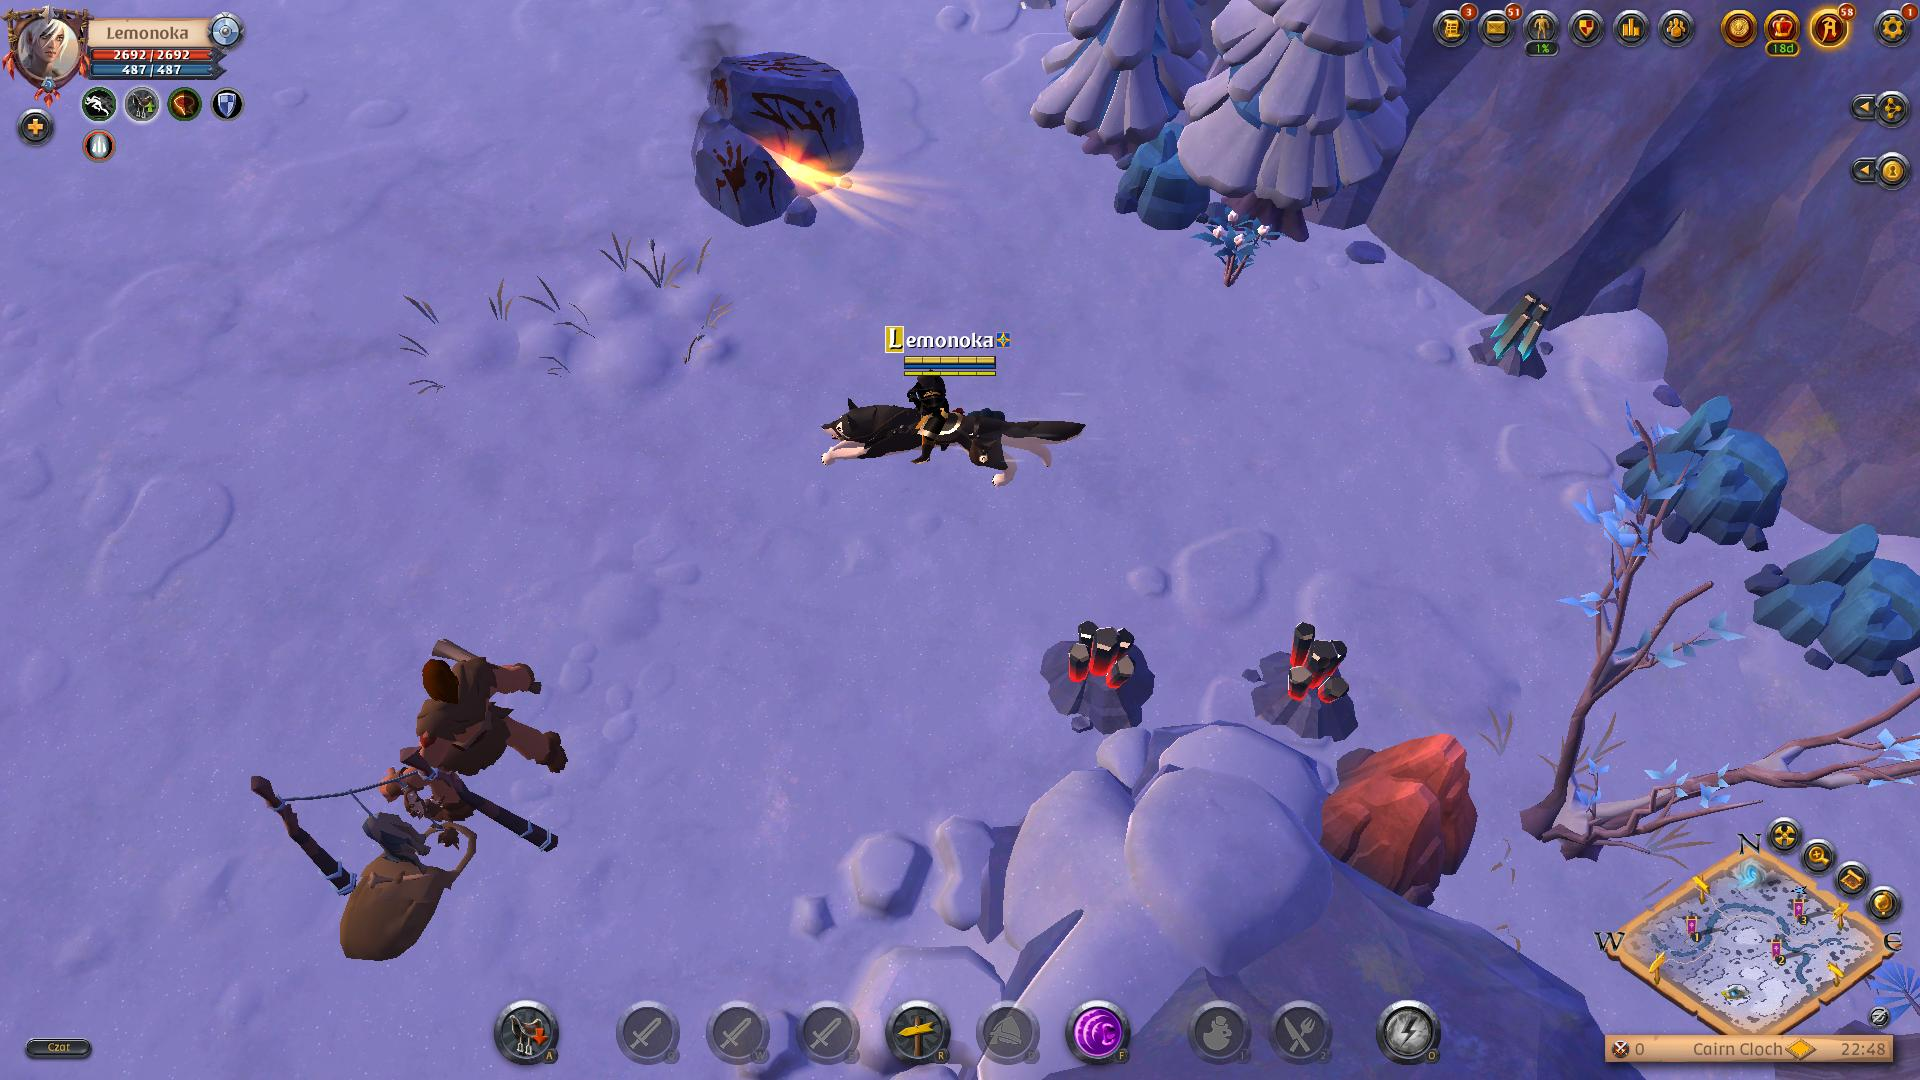fiber tier 4: (1200, 207, 1275, 290)
ore tier 4: (1469, 285, 1557, 392)
ore tier 5: (1249, 621, 1370, 748), (1042, 611, 1163, 736)
rock tier 4: (1750, 526, 1920, 684), (1619, 397, 1787, 554)
rock tier 5: (1305, 729, 1487, 905)
